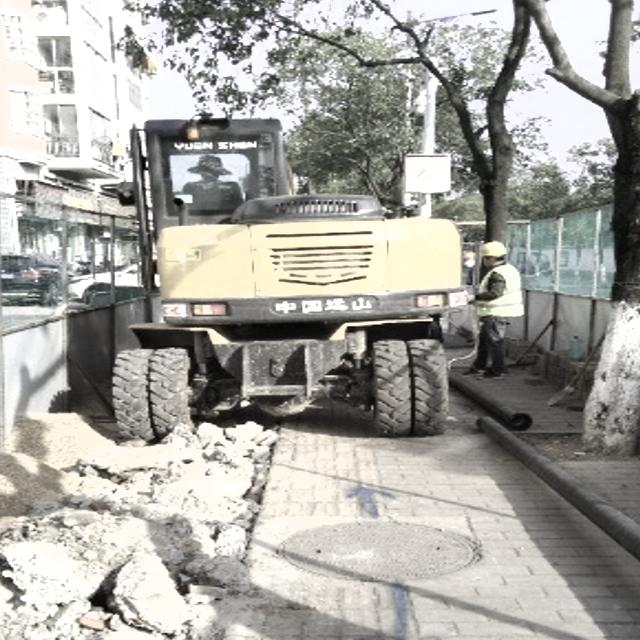good: (282, 518, 488, 583)
